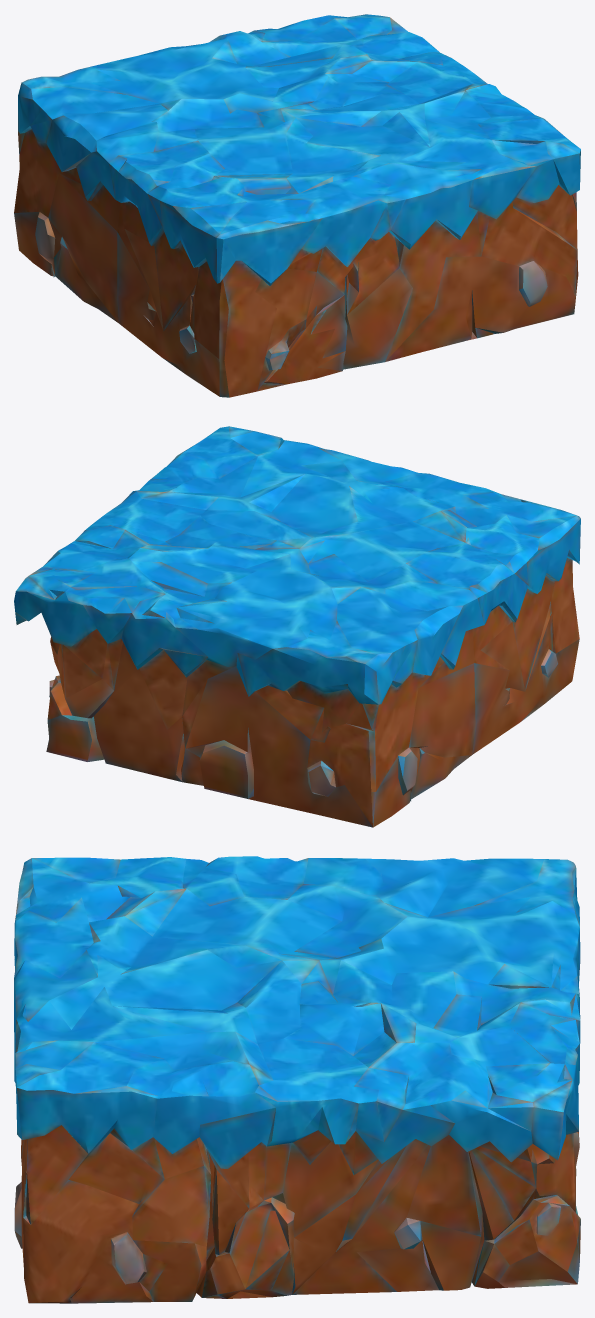
The model's file is water-center.glb.
3 views of the same model, one above another, from view 1: azimuth 30°, elevation 25°; view 2: azimuth 150°, elevation 25°; view 3: azimuth 270°, elevation 25° (orthographic). The views are drawn at different scales.
Parts seen in each view (by area): view 1: output_unwrapped; view 2: output_unwrapped; view 3: output_unwrapped.
Boxes of the visible parts, x1=… form: output_unwrapped: x1=14, y1=14, x2=580, y2=397; output_unwrapped: x1=14, y1=426, x2=580, y2=827; output_unwrapped: x1=14, y1=856, x2=580, y2=1303.
Bounding box in the file's own units: 1.9 × 0.8391 × 1.9.
1 material, 1 textured.
